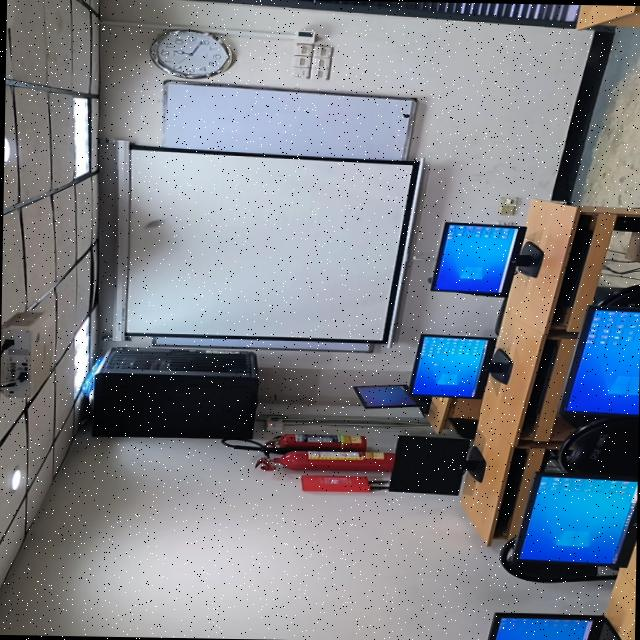Chair: (498, 536, 615, 583), (556, 417, 638, 476), (597, 284, 640, 308)
Fire Extinguisher: (271, 450, 393, 471), (263, 433, 365, 450)
Keyboard: (429, 222, 524, 297), (552, 216, 592, 323), (524, 339, 557, 429), (495, 449, 526, 535)
Light: (72, 97, 89, 177), (73, 317, 88, 390), (8, 468, 21, 490), (3, 135, 9, 164)
Monitor: (513, 472, 637, 568), (560, 305, 640, 416), (429, 223, 542, 297), (407, 334, 510, 397), (388, 435, 484, 495), (486, 612, 620, 640), (353, 384, 429, 413)
Projector: (0, 311, 50, 398)
